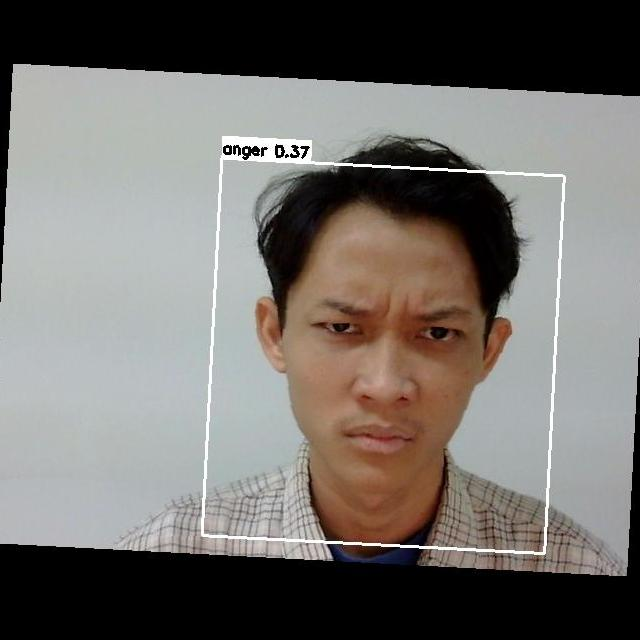Angry: (300, 280, 487, 465)
